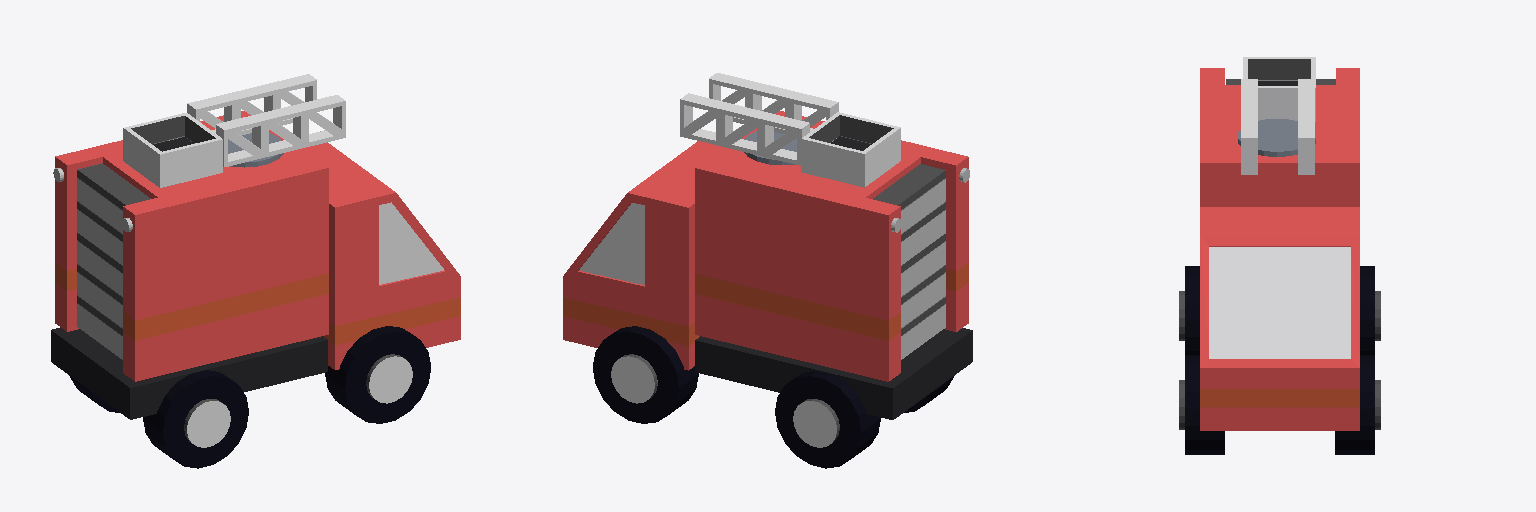
The picture shows the model from 3 angles: view 1: azimuth 30°, elevation 25°; view 2: azimuth 150°, elevation 25°; view 3: azimuth 270°, elevation 25°; orthographic projection.
Parts seen in each view (by area): view 1: Box062; view 2: Box062; view 3: Box062.
Boxes of the visible parts, <box> form: Box062: <box>51,74,460,468</box>; Box062: <box>563,73,972,468</box>; Box062: <box>1179,57,1380,454</box>.
Size of the model in its own units: 418 by 368 by 221.
1 materials, 1 textured.